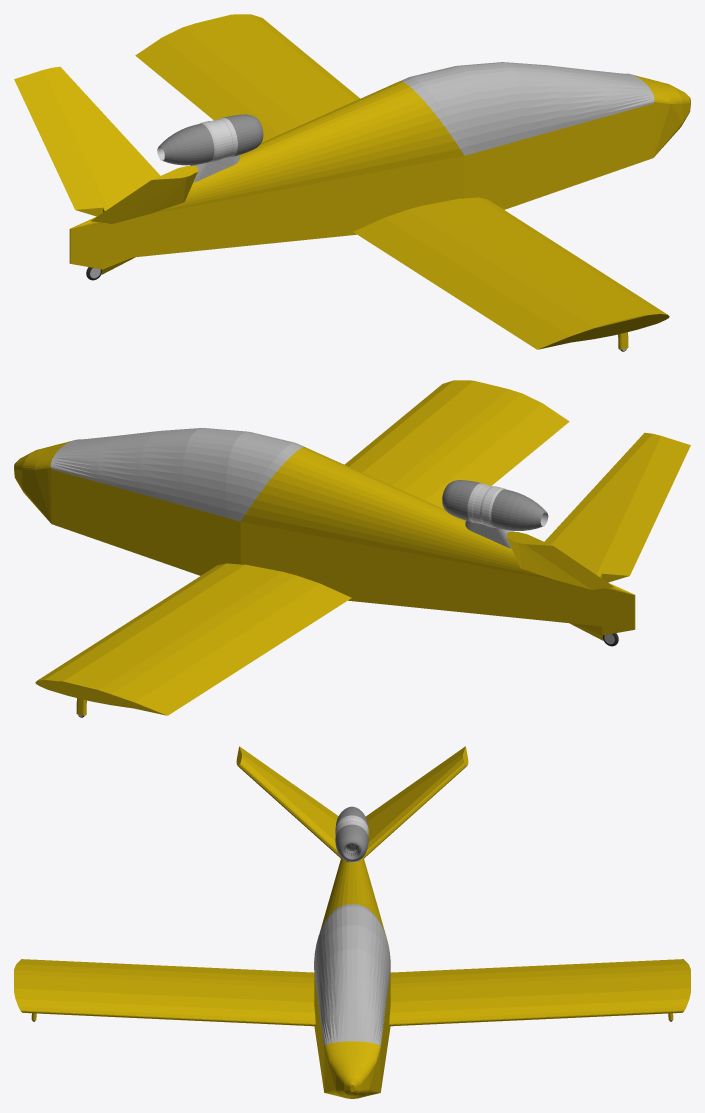
The picture shows the model from 3 angles, top to bottom: view 1: azimuth 30°, elevation 25°; view 2: azimuth 150°, elevation 25°; view 3: azimuth 270°, elevation 25°; orthographic projection. The views are drawn at different scales.
Parts seen in each view (by area): view 1: mesh7.002_mesh7-geometry, mesh12.001_mesh12-geometry, mesh6.001_mesh6-geometry, mesh18.002_mesh18-geometry, mesh13.001_mesh13-geometry, mesh14.001_mesh14-geometry, mesh9.002_mesh9-geometry, mesh15.002_mesh15-geometry, mesh27.070_mesh27-geometry, mesh27.075_mesh27-geometry, mesh27.077_mesh27-geometry, mesh26.002_mesh26-geometry (+2 smaller); view 2: mesh9.002_mesh9-geometry, mesh6.001_mesh6-geometry, mesh12.001_mesh12-geometry, mesh15.002_mesh15-geometry, mesh14.001_mesh14-geometry, mesh13.001_mesh13-geometry, mesh7.002_mesh7-geometry, mesh18.002_mesh18-geometry, mesh27.078_mesh27-geometry, mesh27.067_mesh27-geometry, mesh27.071_mesh27-geometry, mesh25.002_mesh25-geometry (+1 smaller); view 3: mesh12.001_mesh12-geometry, mesh6.001_mesh6-geometry, mesh18.002_mesh18-geometry, mesh15.002_mesh15-geometry, mesh9.002_mesh9-geometry, mesh13.001_mesh13-geometry, mesh14.001_mesh14-geometry, mesh7.002_mesh7-geometry.
Boxes of the visible parts, x1,y1,x2,y2 form: mesh7.002_mesh7-geometry: (70, 79, 690, 263); mesh12.001_mesh12-geometry: (353, 197, 669, 349); mesh6.001_mesh6-geometry: (135, 14, 360, 142); mesh18.002_mesh18-geometry: (407, 64, 654, 155); mesh13.001_mesh13-geometry: (14, 66, 160, 216); mesh14.001_mesh14-geometry: (91, 166, 198, 223); mesh9.002_mesh9-geometry: (69, 75, 682, 263); mesh15.002_mesh15-geometry: (401, 62, 640, 84); mesh27.070_mesh27-geometry: (164, 127, 262, 153); mesh27.075_mesh27-geometry: (163, 122, 261, 151); mesh27.077_mesh27-geometry: (164, 131, 263, 156); mesh26.002_mesh26-geometry: (192, 155, 239, 182); mesh9.002_mesh9-geometry: (14, 445, 634, 629); mesh6.001_mesh6-geometry: (35, 563, 351, 715); mesh12.001_mesh12-geometry: (344, 380, 569, 509); mesh15.002_mesh15-geometry: (50, 430, 297, 521); mesh14.001_mesh14-geometry: (544, 432, 690, 582); mesh13.001_mesh13-geometry: (506, 532, 613, 589); mesh7.002_mesh7-geometry: (22, 441, 635, 629); mesh18.002_mesh18-geometry: (65, 428, 304, 450); mesh27.078_mesh27-geometry: (442, 492, 541, 519); mesh27.067_mesh27-geometry: (443, 488, 541, 517); mesh27.071_mesh27-geometry: (442, 497, 540, 521); mesh25.002_mesh25-geometry: (465, 520, 512, 548); mesh12.001_mesh12-geometry: (14, 959, 315, 1026); mesh6.001_mesh6-geometry: (389, 959, 690, 1026); mesh18.002_mesh18-geometry: (314, 904, 352, 1046); mesh15.002_mesh15-geometry: (352, 904, 390, 1046); mesh9.002_mesh9-geometry: (352, 857, 390, 1098); mesh13.001_mesh13-geometry: (363, 746, 468, 858); mesh14.001_mesh14-geometry: (236, 746, 341, 858); mesh7.002_mesh7-geometry: (314, 858, 352, 1098).
Size of the model in its own units: 0.6422 by 0.2075 by 0.7379.
